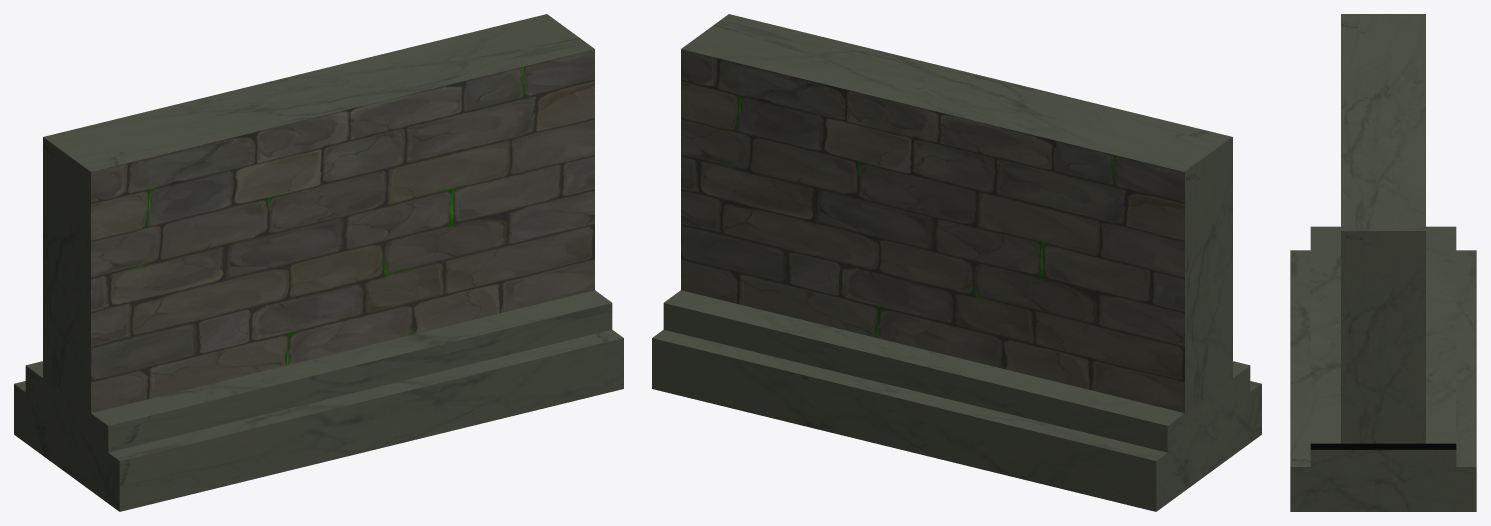
File: SM_Wall_straight.fbx
3 renders of one model, left to right at view 1: azimuth 30°, elevation 25°; view 2: azimuth 150°, elevation 25°; view 3: azimuth 270°, elevation 25°, orthographic. The views are drawn at different scales.
Visible parts, largest first — view 1: SM_Wall_Straight5; view 2: SM_Wall_Straight5; view 3: SM_Wall_Straight5.
Boxes of the visible parts, x1,y1,x2,y2 form: SM_Wall_Straight5: (14, 14, 623, 511); SM_Wall_Straight5: (652, 14, 1261, 511); SM_Wall_Straight5: (1290, 14, 1476, 511).
Size of the model in its own units: 4.18 by 2.53 by 1.52.
